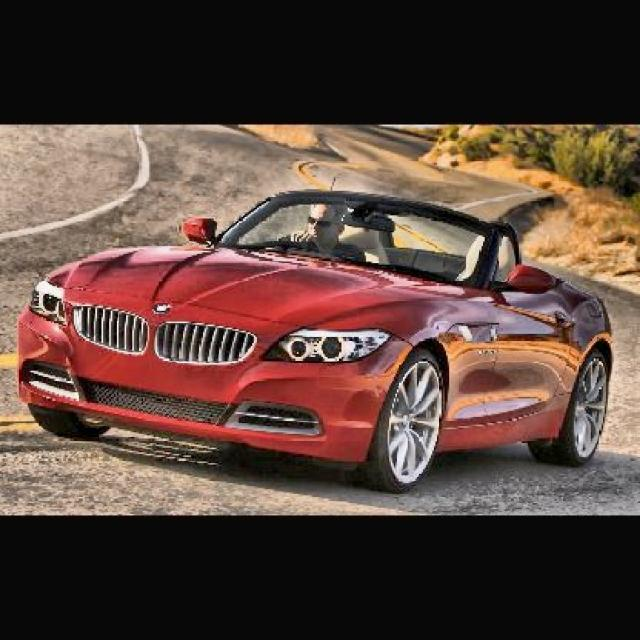maroon: (16, 190, 613, 488)
